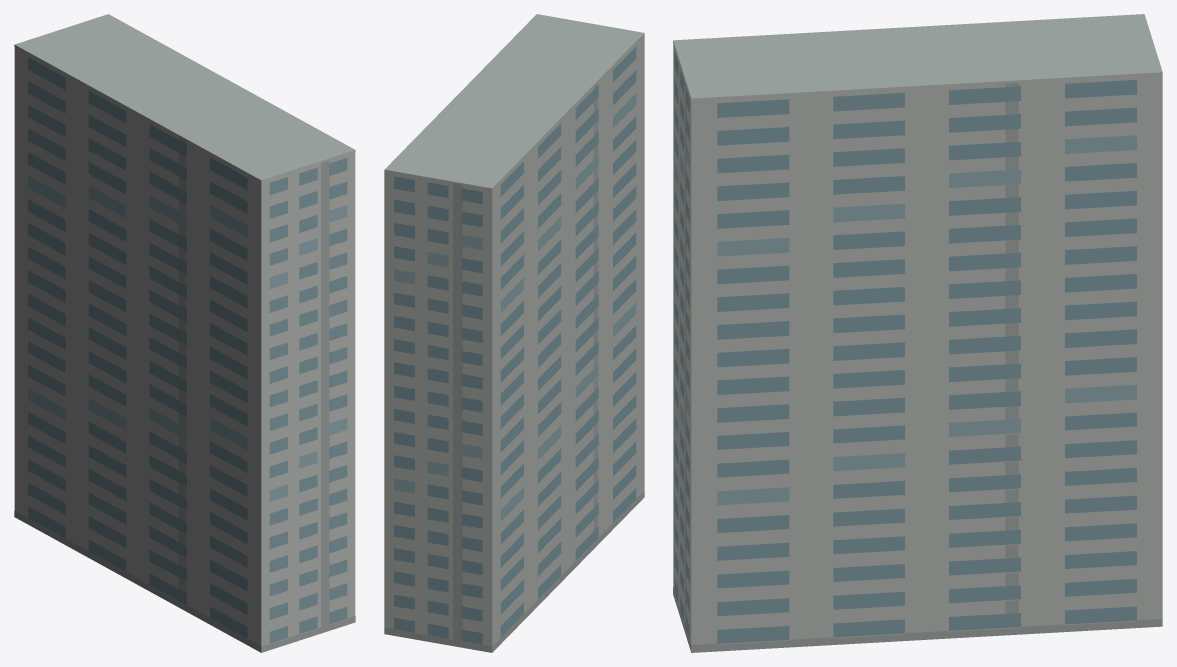
The model's file is residential-91d83495-6f04-4640-84d3-1d260b34cfdd.glb.
The picture shows the model from 3 angles, left to right: view 1: azimuth 30°, elevation 25°; view 2: azimuth 150°, elevation 25°; view 3: azimuth 270°, elevation 25°; orthographic projection. The views are drawn at different scales.
Visible parts, largest first — view 1: residential-91d83495-6f04-4640-84d3-1d260b34cfdd.tmp; view 2: residential-91d83495-6f04-4640-84d3-1d260b34cfdd.tmp; view 3: residential-91d83495-6f04-4640-84d3-1d260b34cfdd.tmp.
Part boxes in pixels (box(x1,y1,x2,y2)): residential-91d83495-6f04-4640-84d3-1d260b34cfdd.tmp: box(14, 14, 355, 652); residential-91d83495-6f04-4640-84d3-1d260b34cfdd.tmp: box(384, 14, 644, 652); residential-91d83495-6f04-4640-84d3-1d260b34cfdd.tmp: box(673, 14, 1162, 652).
Size of the model in its own units: 17.68 by 54 by 43.24.
